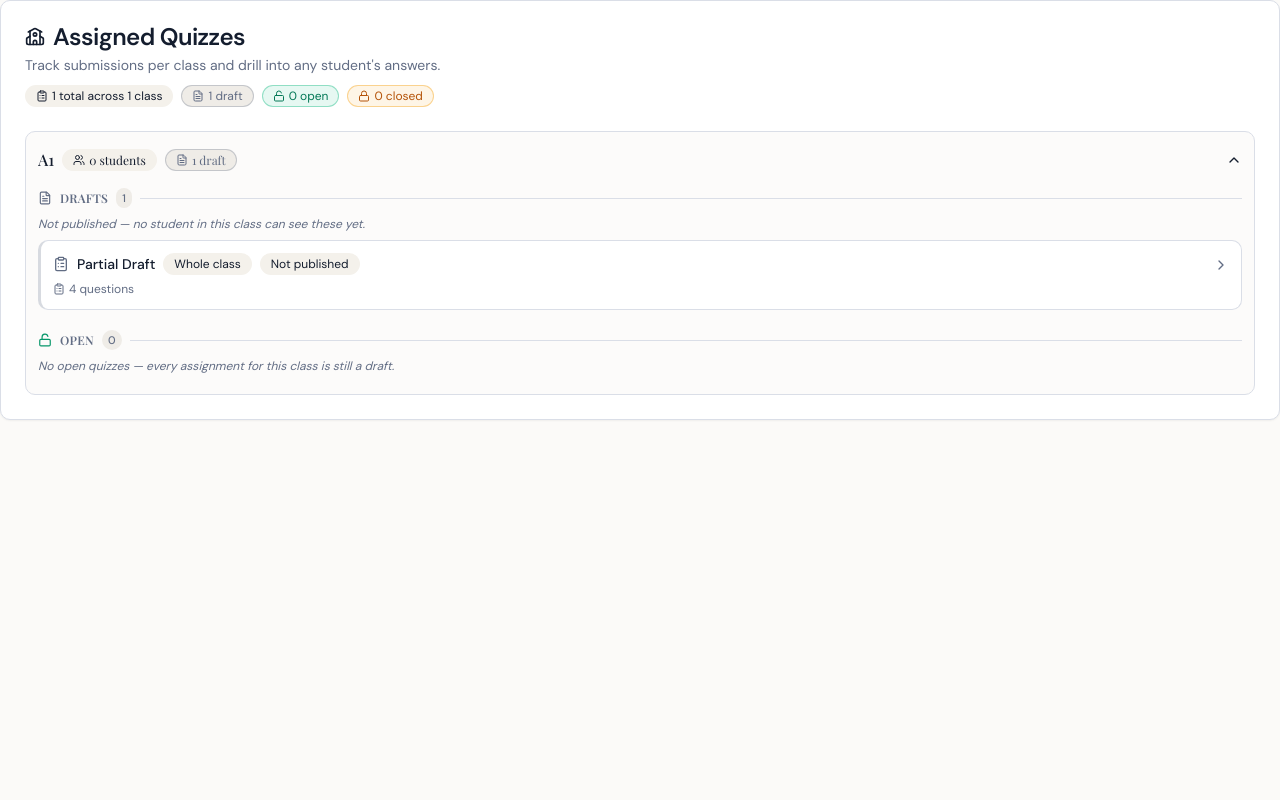
Test: AssignedQuizzesBoard › allows publishing a draft whose generation stopped short, but says it is incomplete
This screenshot has width=1280, height=800.
Later steps or results of the test are not shown.
Click the button "Partial Draft Whole class Not published 4 questions" at point(116, 264), box [41,241,1241,309]
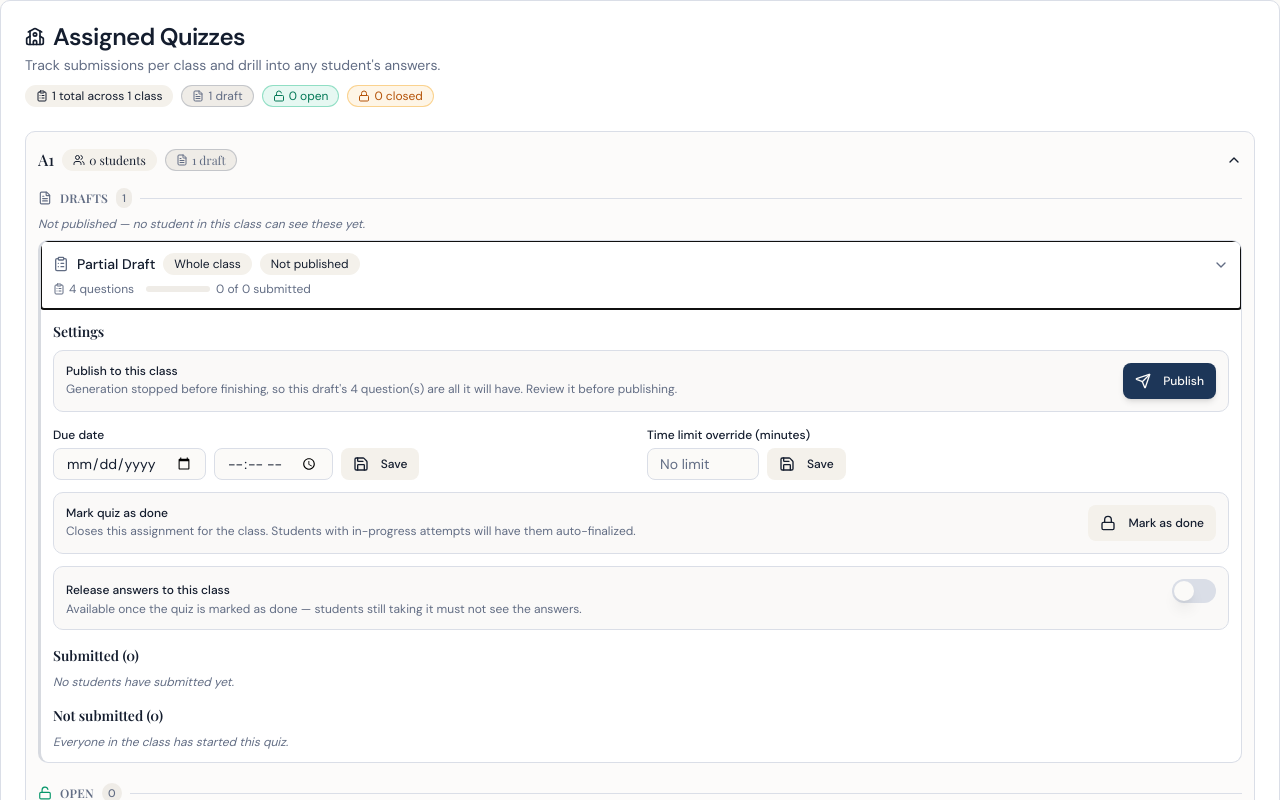
Check: the button with test id "publish-oq-gen" is enabled, box [1123,363,1216,399]
Check: the text "Generation stopped before finishing" is shown, box [66,381,677,397]
